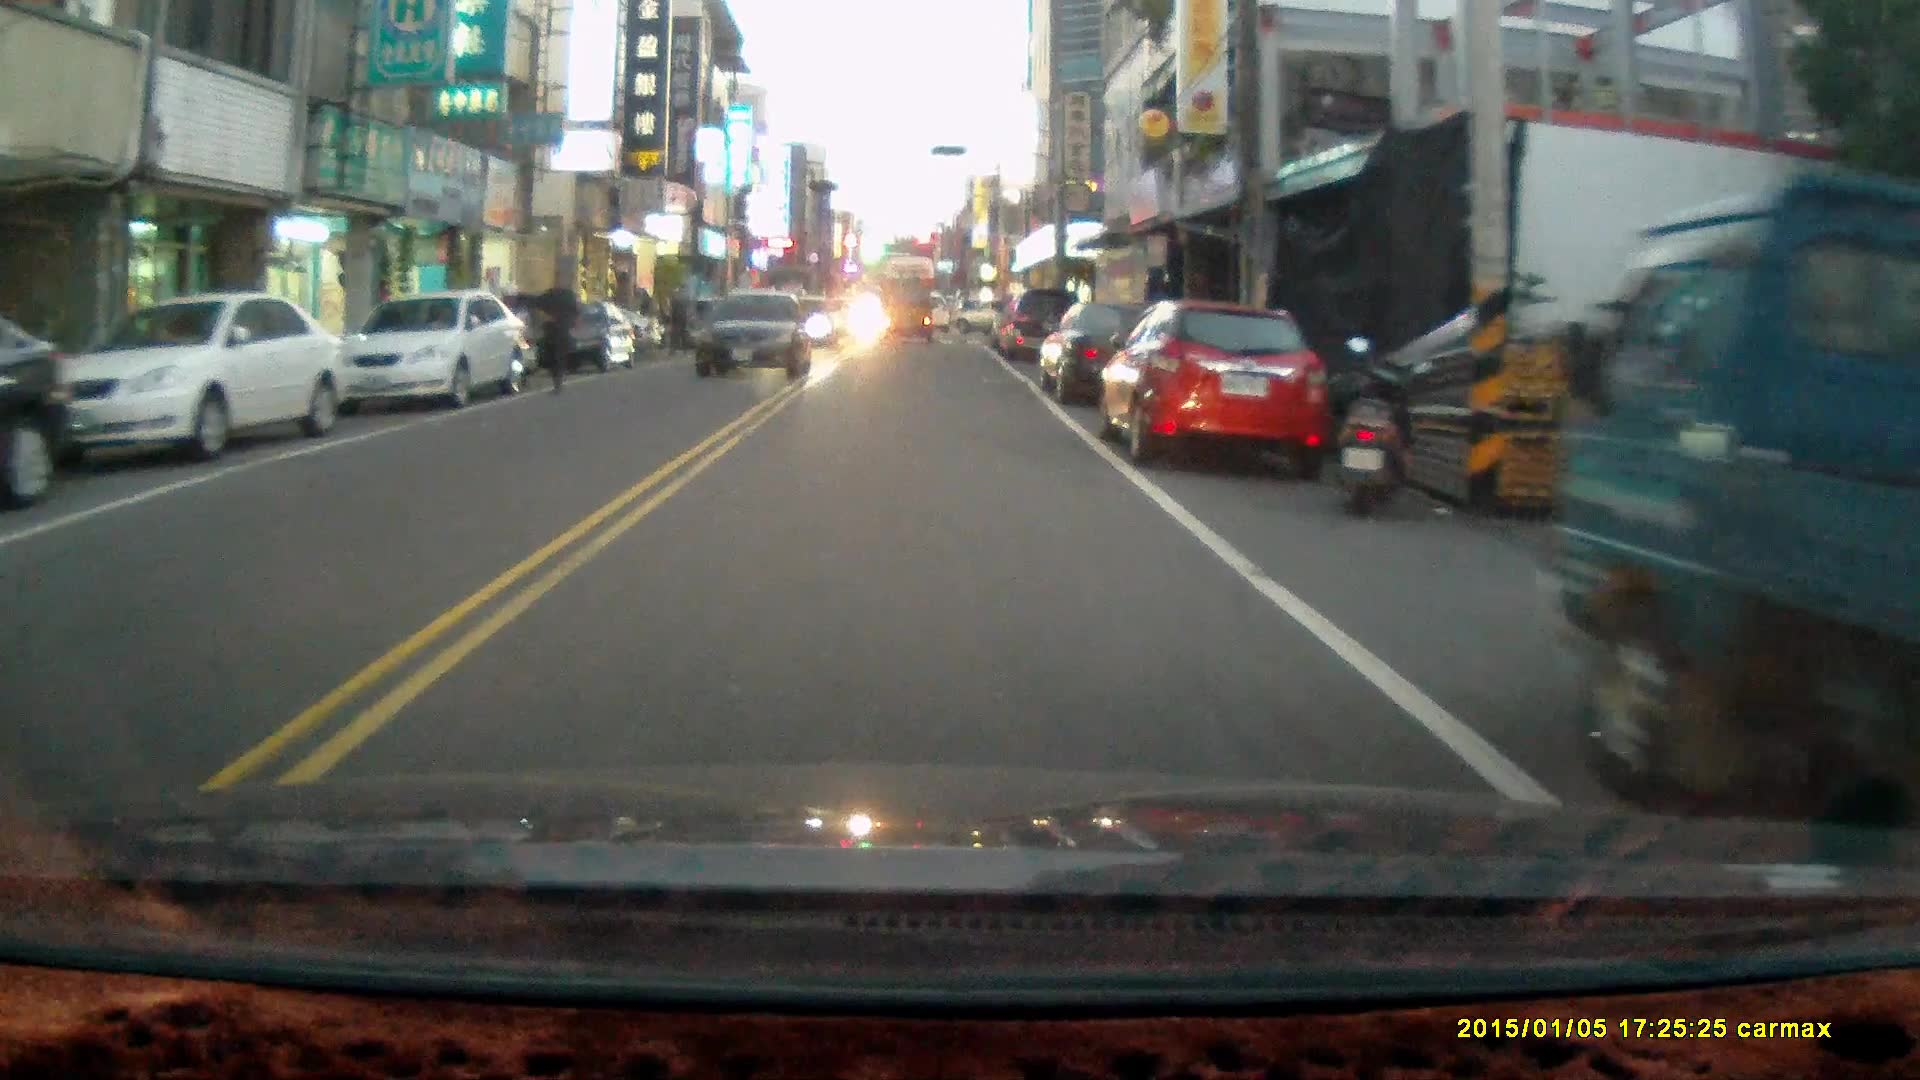pedestrian: (531, 267, 578, 393), (664, 285, 690, 355)
vehicle: (1542, 180, 1920, 866), (41, 293, 348, 458), (1101, 303, 1332, 480), (338, 292, 530, 413), (1033, 298, 1216, 406), (692, 285, 816, 382), (990, 284, 1092, 364), (537, 298, 634, 376), (875, 275, 937, 343)
